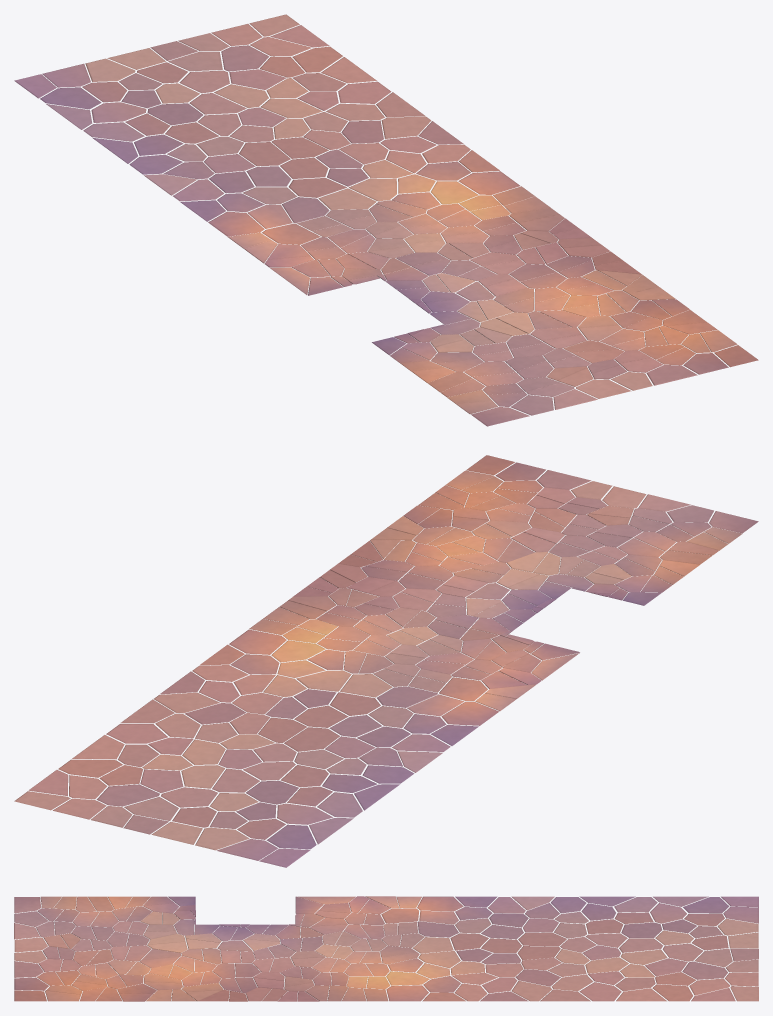
The model's file is Promenade_Flagstones.glb.
3 views of the same model, one above another, from view 1: azimuth 30°, elevation 25°; view 2: azimuth 150°, elevation 25°; view 3: azimuth 270°, elevation 25° (orthographic). The views are drawn at different scales.
Parts seen in each view (by area): view 1: Grand Dojo promenade flagstones; view 2: Grand Dojo promenade flagstones; view 3: Grand Dojo promenade flagstones.
Boxes of the visible parts, box(x1,y1,x2,y2) form: Grand Dojo promenade flagstones: box(14, 14, 758, 426); Grand Dojo promenade flagstones: box(14, 455, 758, 867); Grand Dojo promenade flagstones: box(14, 896, 758, 1001).
Bounding box in the file's own units: 29.95 × 0.0569 × 89.92.
1 material, 1 textured.
